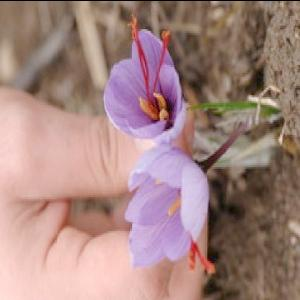Saffron: (124, 145, 211, 267), (102, 26, 182, 142)
